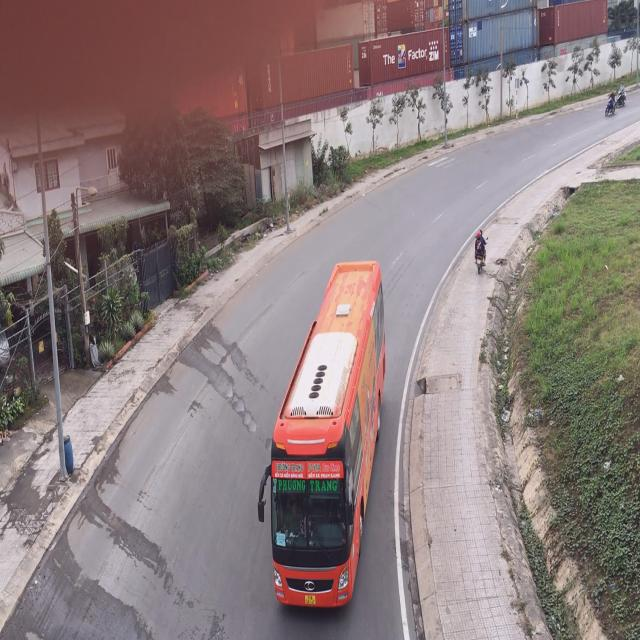bus: (256, 261, 383, 621)
motorbike: (473, 227, 488, 274), (604, 92, 614, 118)
